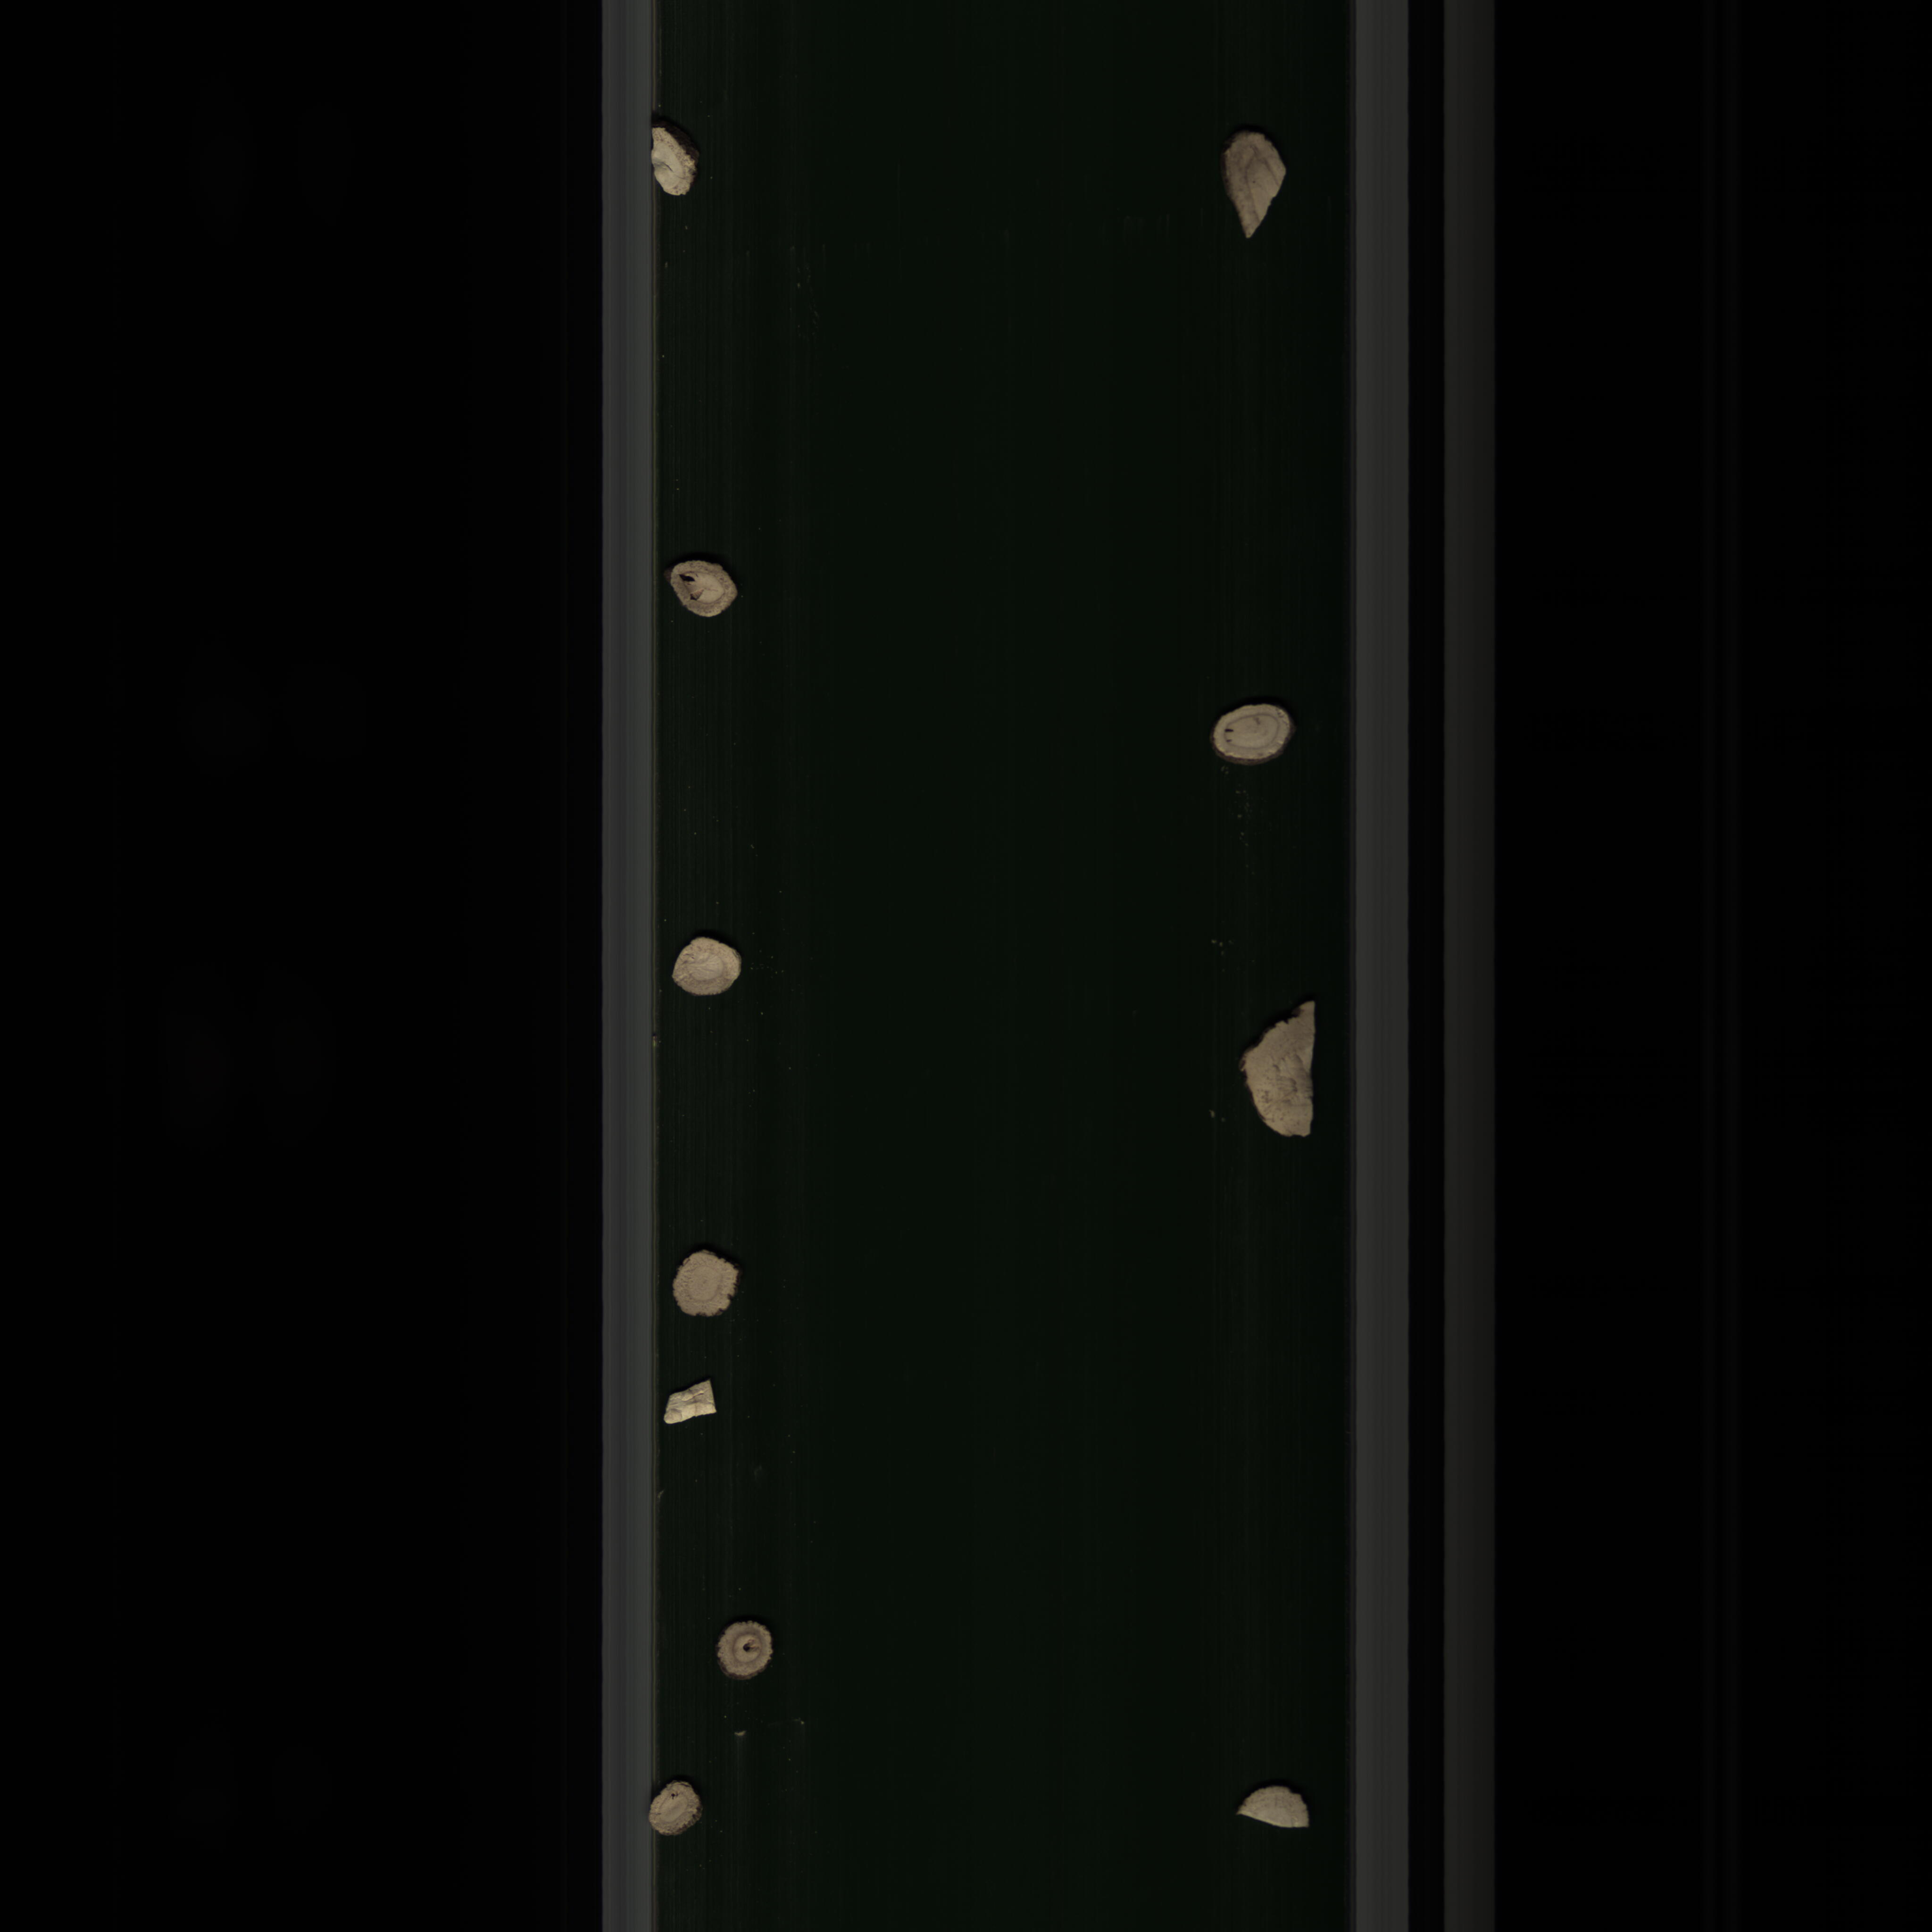debris: (1233, 989, 1332, 1146), (1214, 129, 1300, 246), (1231, 1778, 1320, 1844), (655, 1373, 732, 1438), (644, 122, 708, 202)
hole: (656, 550, 759, 630), (1203, 695, 1304, 768), (708, 1615, 787, 1690)
